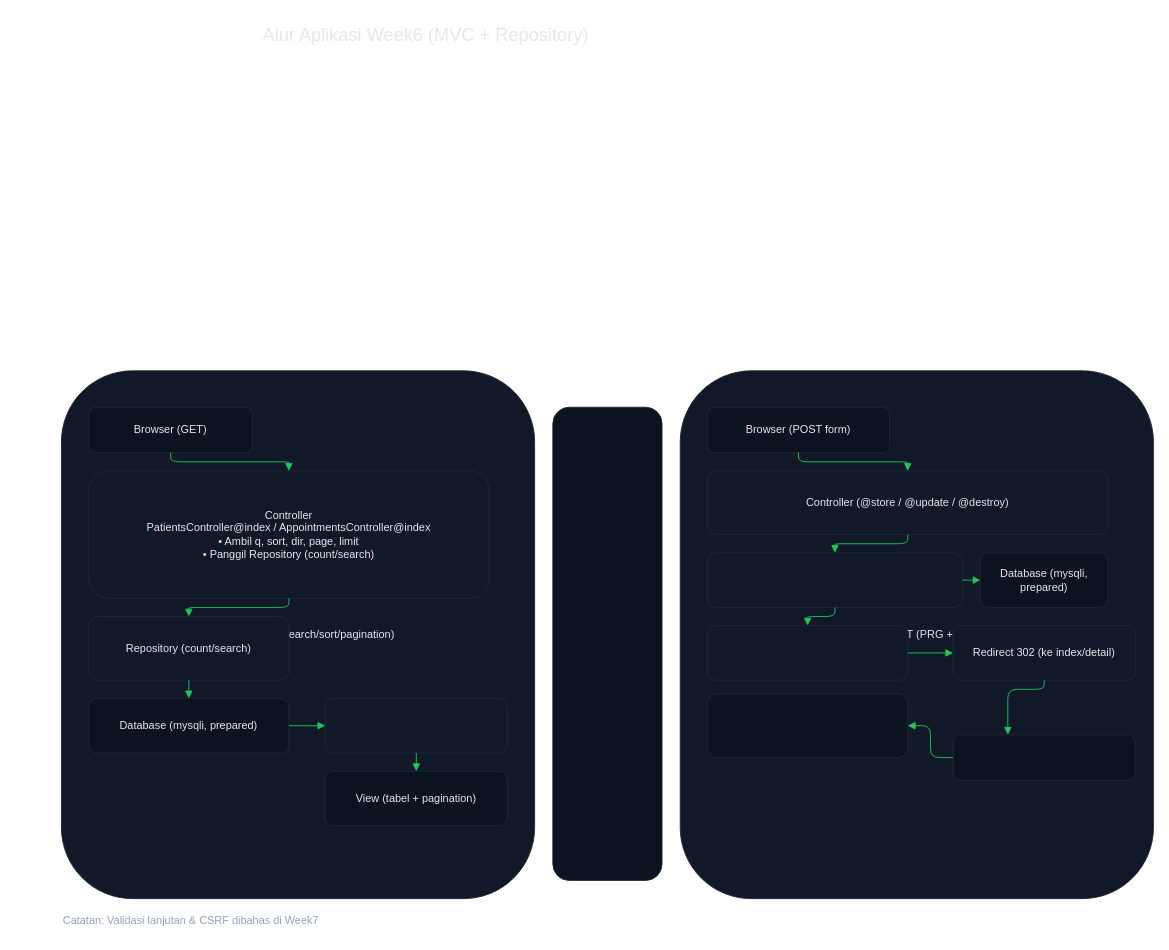
This 1169x950 diagram has some shape labels left out. Here are the shapes that lost their labels. From the top down, the centre of each, then its label:
(834,579): Repository (INSERT / UPDATE / DELETE)
(607,643): Front Controller / Router (public/index.php, ?c=…&a=…)
(807,652): Set Flash (success/error)
(415,725): Paginator (page & offset)
(807,725): Controller → View (tampilkan flash)
(1043,757): Browser (GET ulang)
